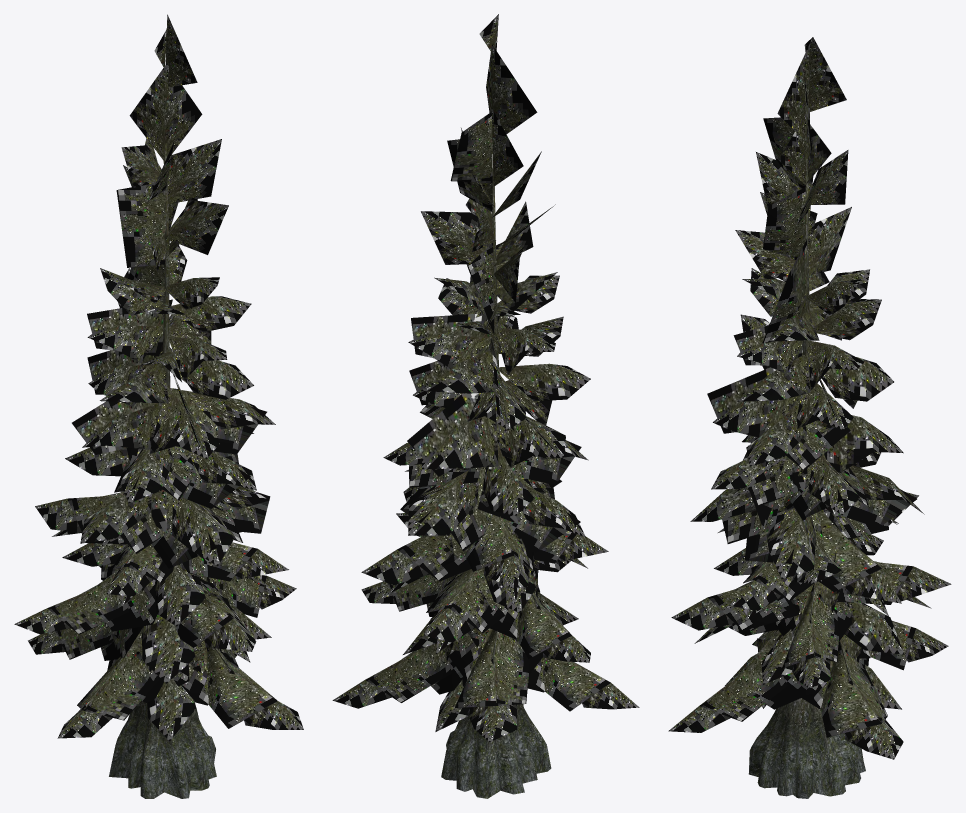
Rendered from treepineforestdeadsnowl01-transformed.glb.
3 views of the same model, side by side, from view 1: azimuth 30°, elevation 25°; view 2: azimuth 150°, elevation 25°; view 3: azimuth 270°, elevation 25° (orthographic).
Visible parts, largest first — view 1: default; view 2: default; view 3: default.
Boxes of the visible parts, bbox=[...] form: default: bbox=[14, 14, 303, 798]; default: bbox=[332, 14, 639, 798]; default: bbox=[668, 37, 951, 798].
Bounding box in the file's own units: 9.14 × 25.65 × 8.66.
2 materials, 2 textured.
